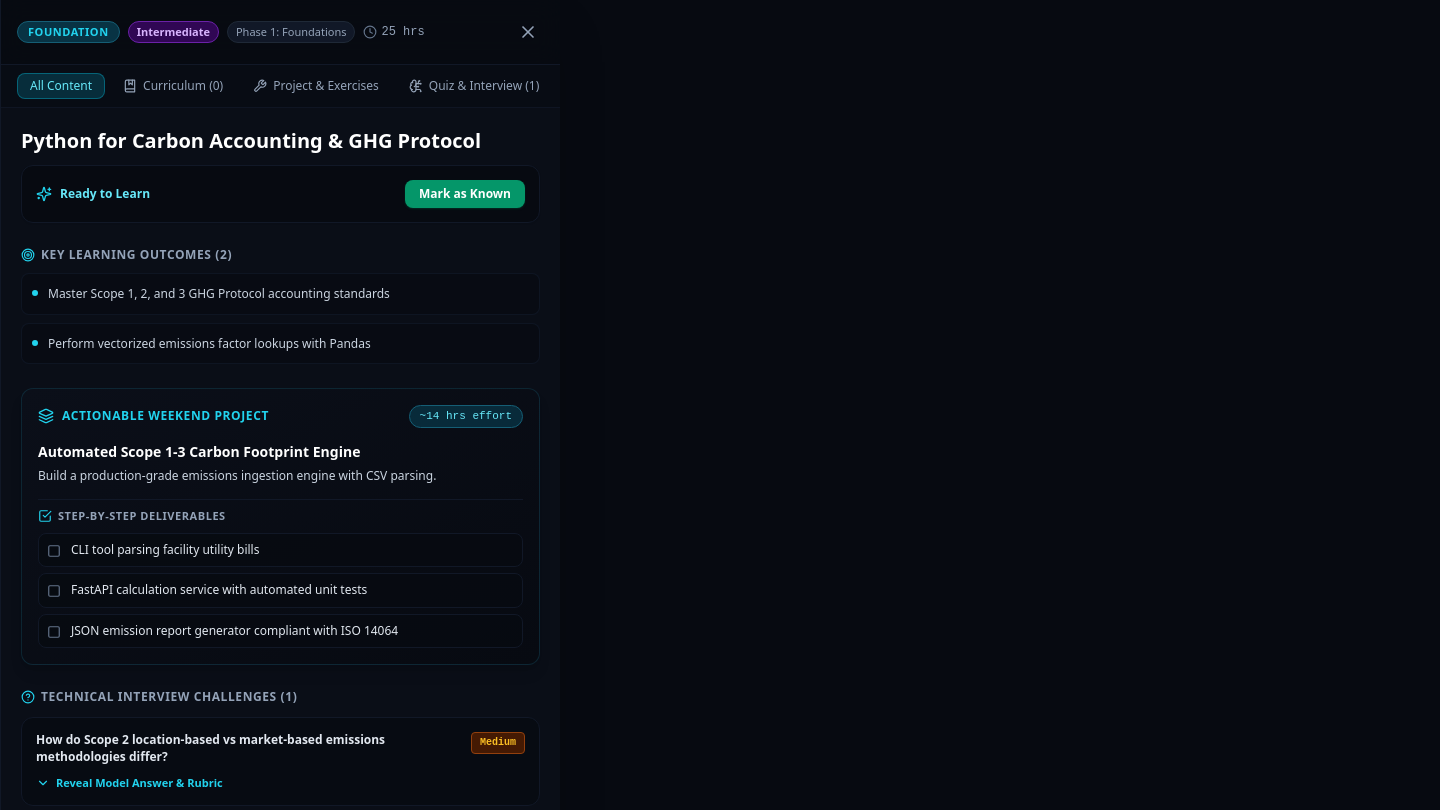
Test case: NodeDetailPanel Milestone Detail Drawer (Phase 4) › displays interview prep questions and toggles model evaluation rubric
Expected: the text "How do Scope 2 location-based vs market-based" is shown, [36,731,385,764]
Expected: the text "Medium" is shown, [471,732,525,754]
Note: Reveal button click
Click the button "Reveal Model Answer & Rubric": (129, 783) [36,775,223,791]
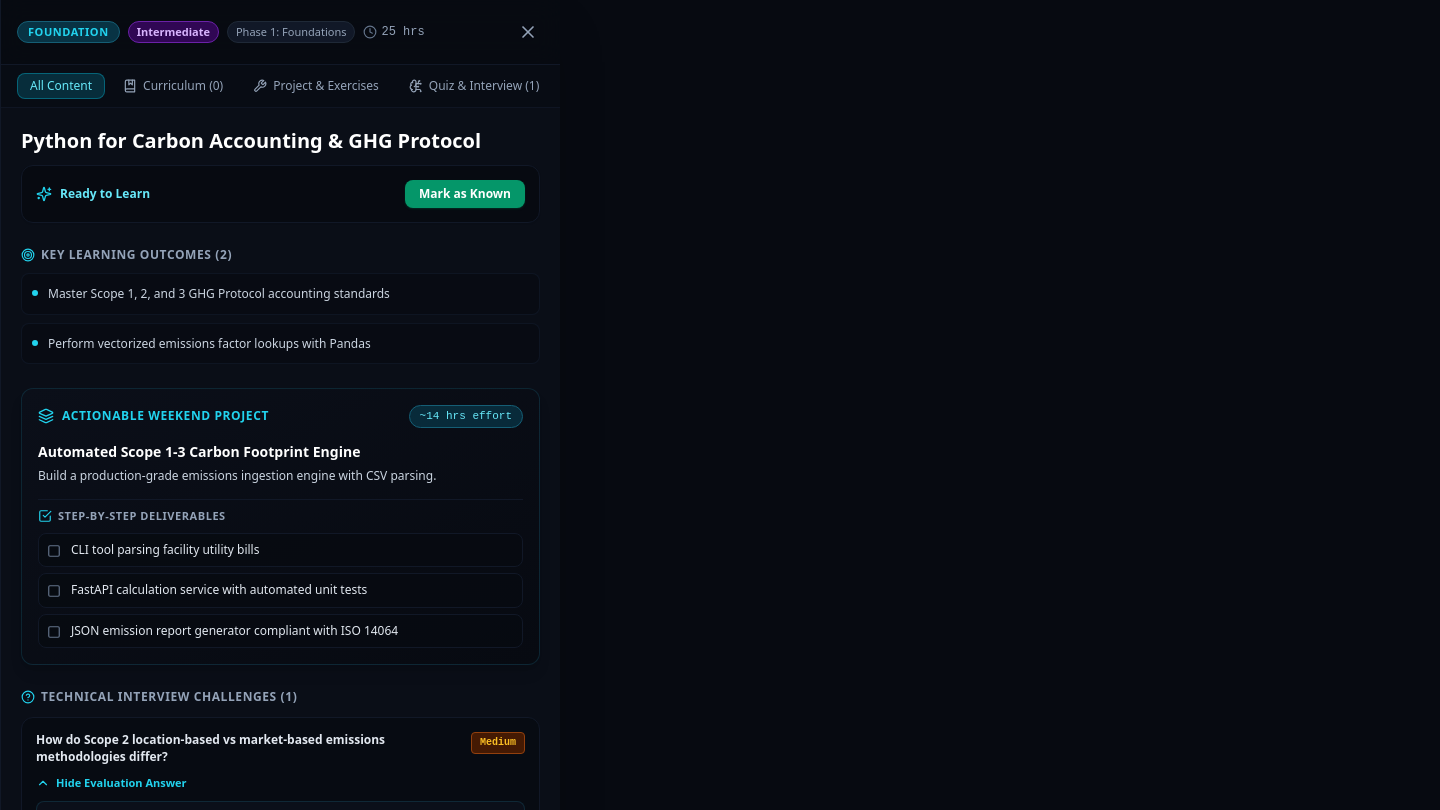
Expected: the button "Hide Evaluation Answer" is shown, [36,775,187,791]
